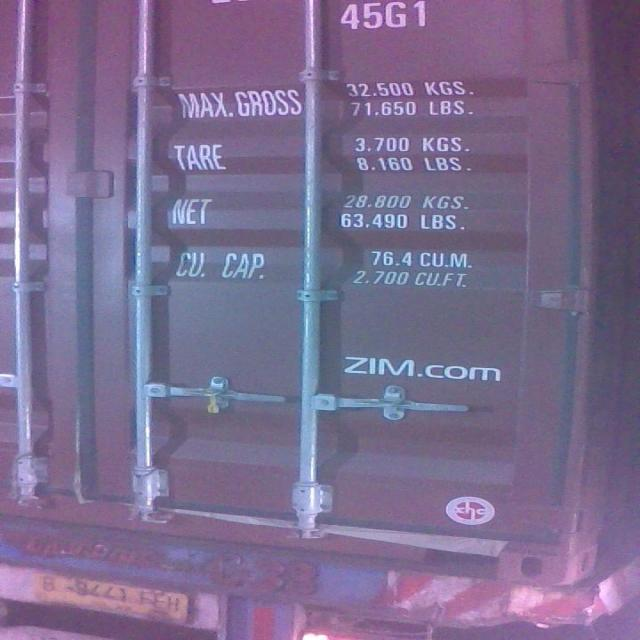seal: (202, 390, 225, 416)
